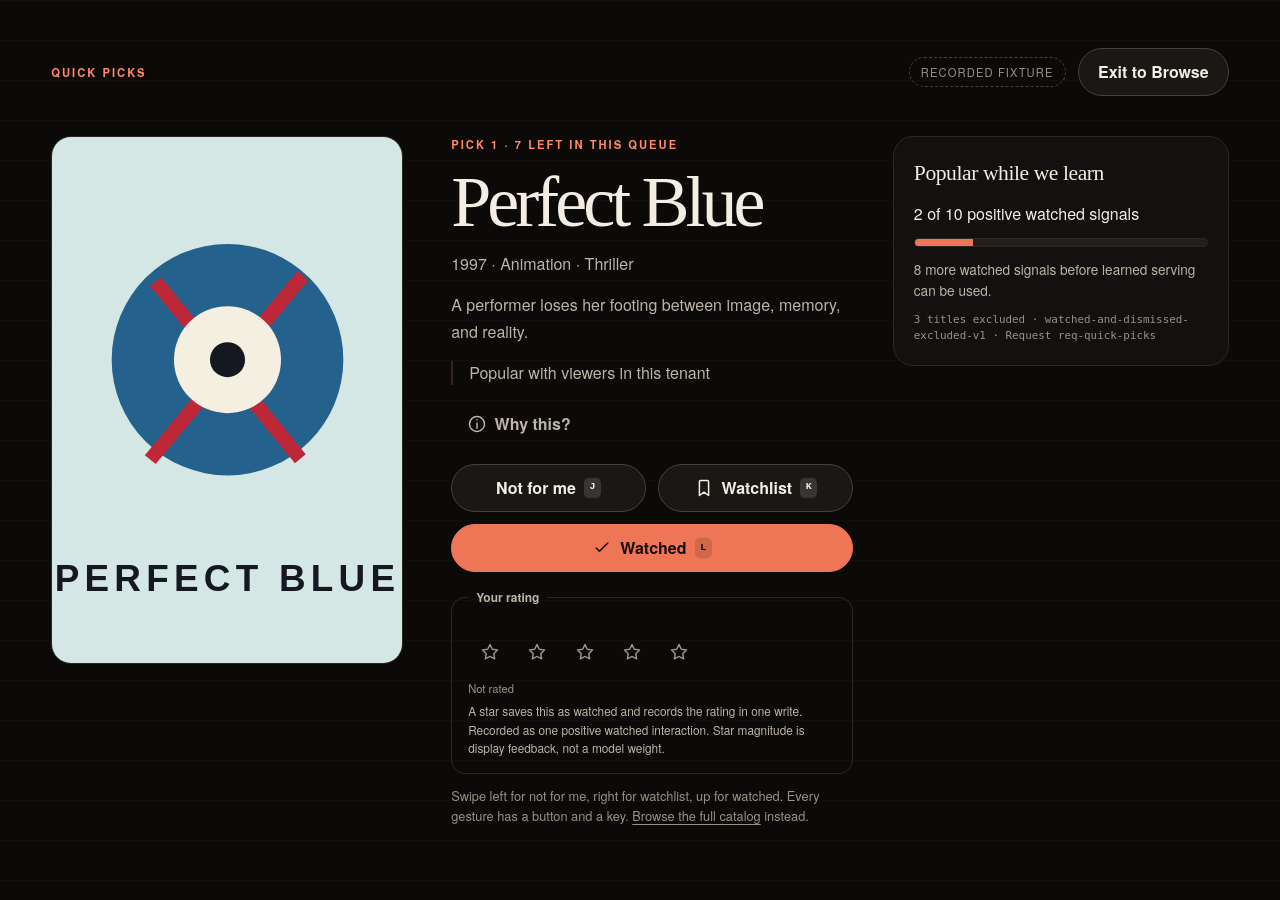
Test case: progress toward learned serving › treats a star as one watched decision rather than a second step
What coordinates should you click on to do the following:
click the button named "4 stars for Perfect Blue"
I would click on:
 (632, 652)
Its box is 610,630 -> 654,674.
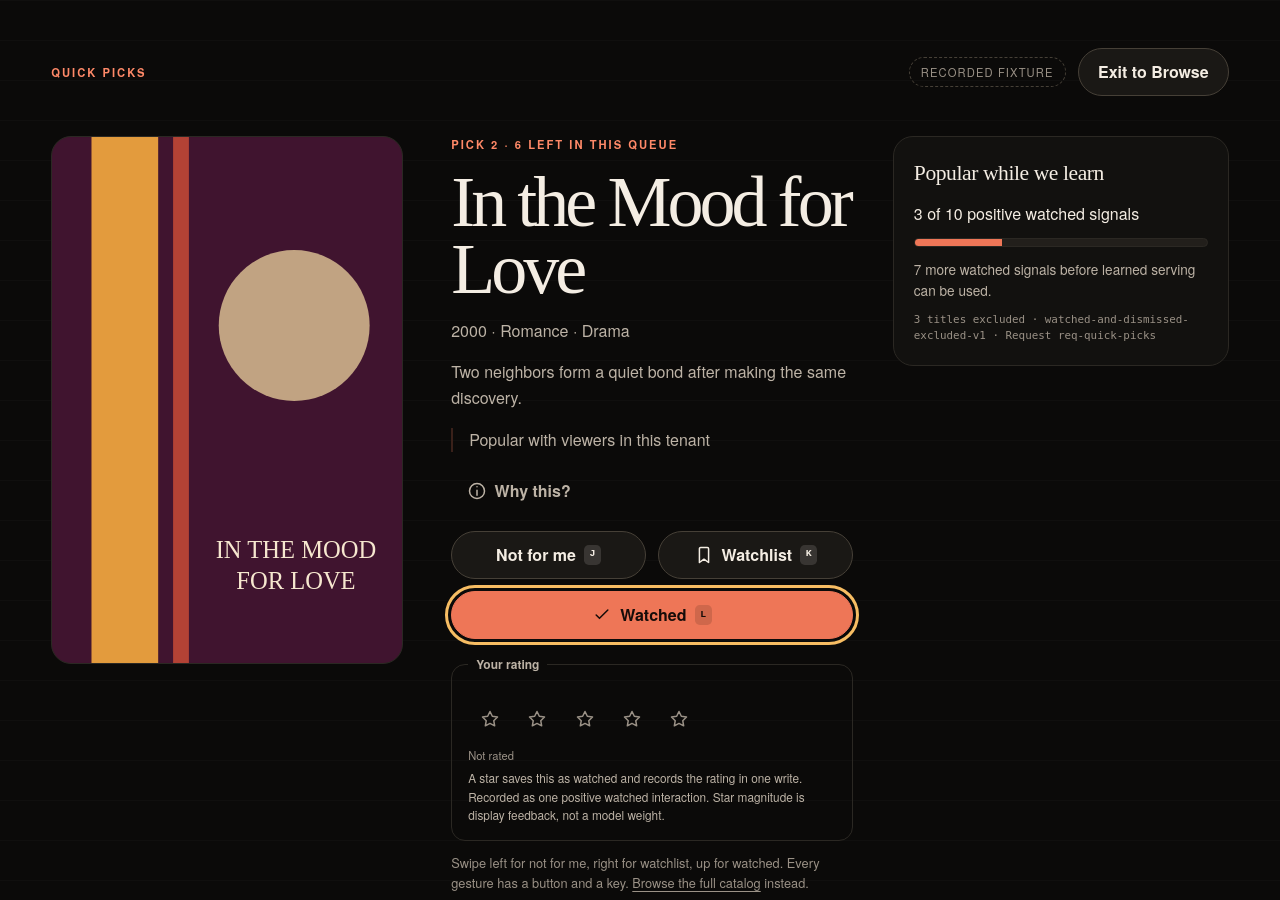
expect the text "3 of 10 positive watched signals" is shown: met, box 914,202 -> 1139,225
expect the heading "In the Mood for Love" is shown: met, box 451,169 -> 853,303
